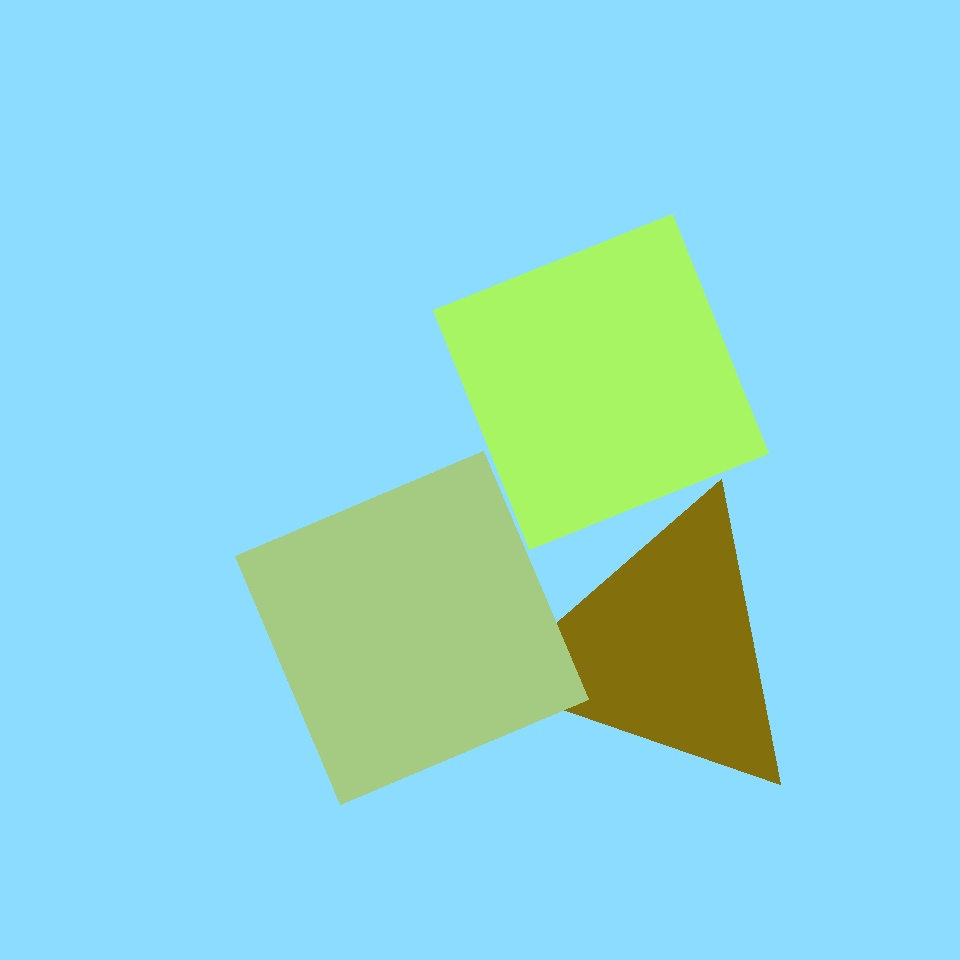circle: (516, 496, 810, 802), (252, 514, 420, 673), (405, 338, 532, 472)
square: (235, 452, 588, 804), (434, 214, 768, 550), (348, 133, 631, 416), (711, 306, 817, 412), (337, 521, 435, 619)
